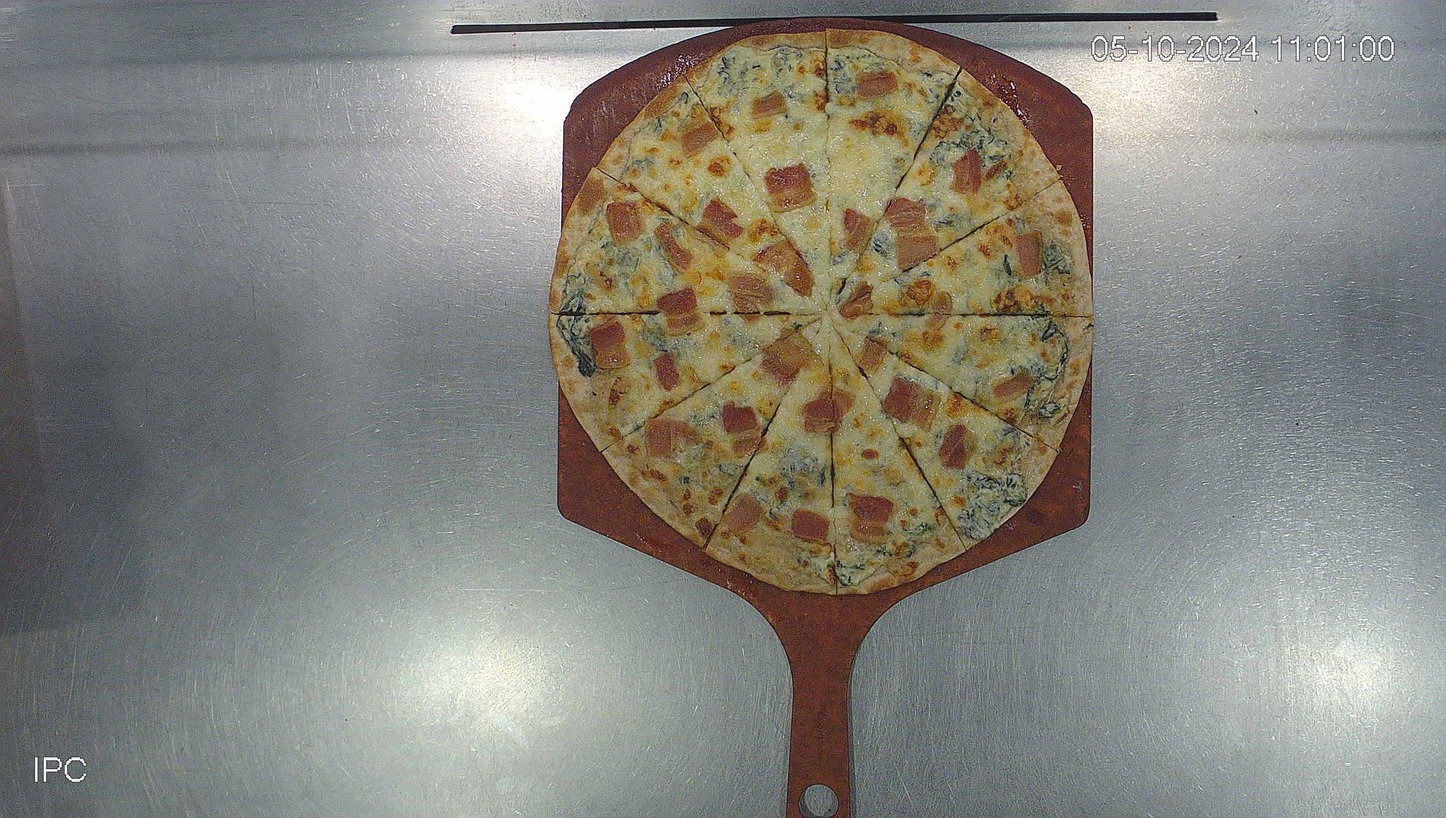pepporoni: (552, 31, 1097, 591)
